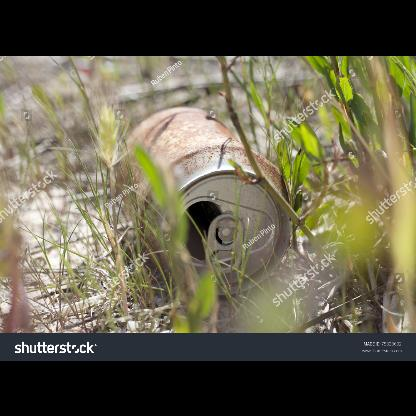Lid_Open: (178, 190, 281, 280)
